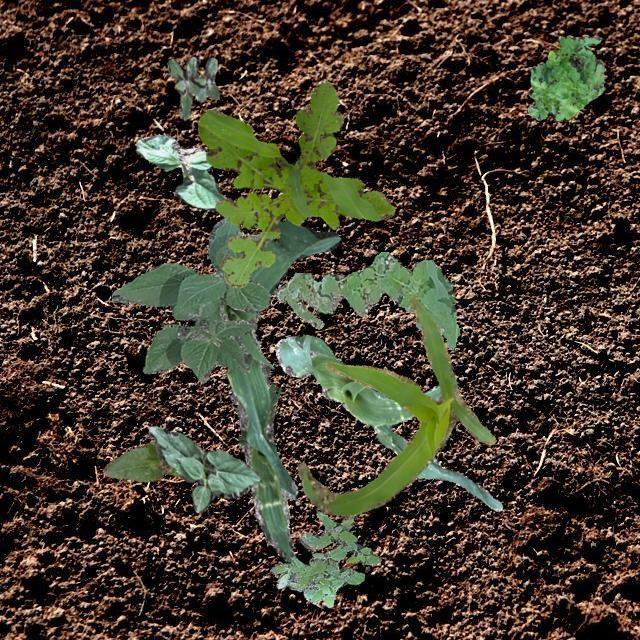crop: (296, 294, 494, 516), (274, 334, 502, 511), (222, 220, 340, 560), (111, 216, 271, 382), (146, 424, 258, 512), (134, 133, 224, 210), (102, 442, 180, 481)
weed: (196, 80, 394, 286), (274, 250, 458, 348), (270, 511, 380, 606), (526, 34, 602, 120), (166, 55, 218, 118)
